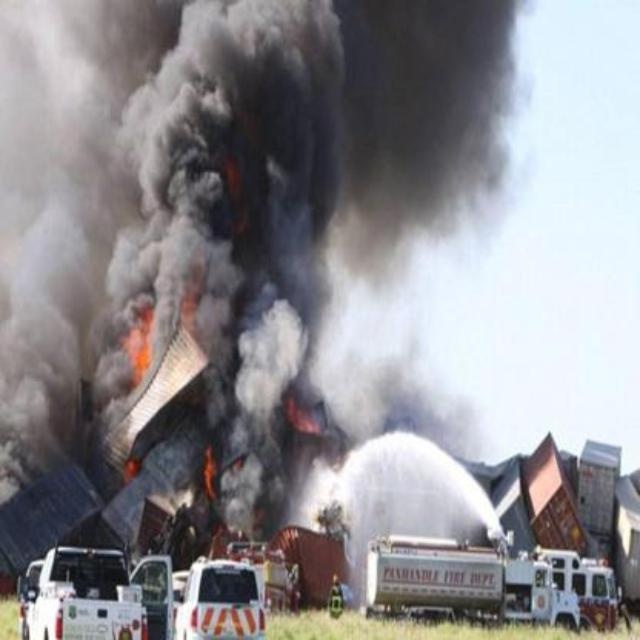Fire: (284, 395, 320, 439), (201, 439, 223, 507), (118, 449, 140, 487)
Smoke: (0, 4, 506, 407), (227, 412, 278, 546)
